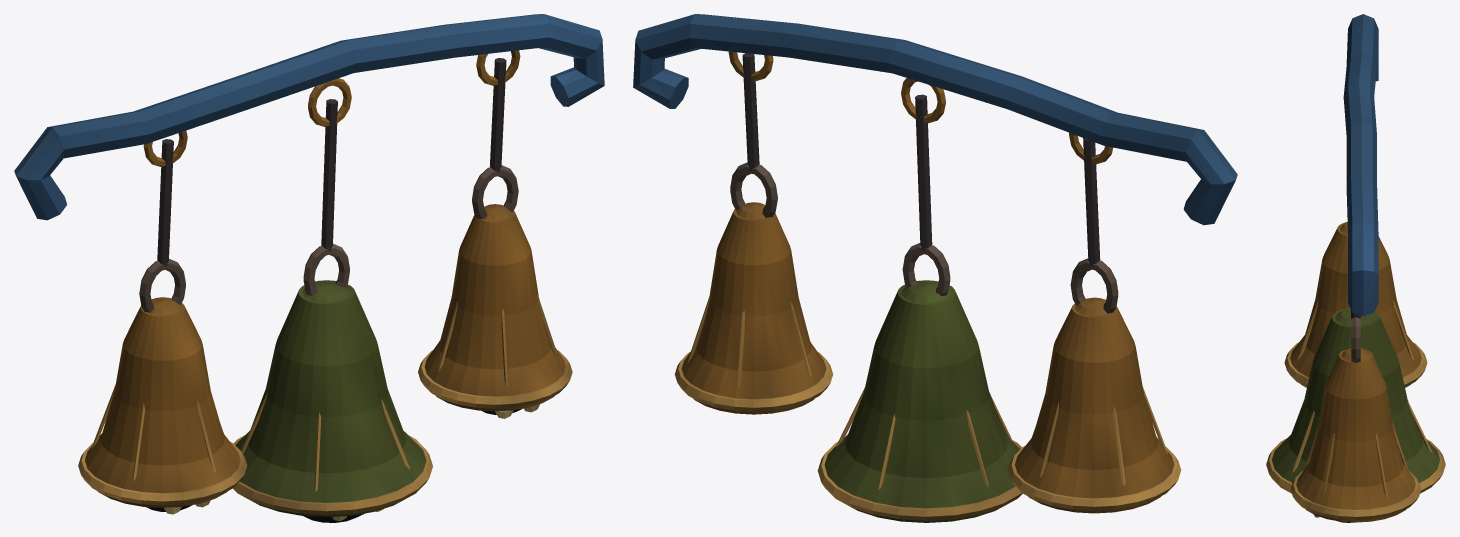
Rendered from chime_triplets.fbx.
The picture shows the model from 3 angles, left to right: view 1: azimuth 30°, elevation 25°; view 2: azimuth 150°, elevation 25°; view 3: azimuth 270°, elevation 25°; orthographic projection. The views are drawn at different scales.
Parts seen in each view (by area): view 1: chime_triplets; view 2: chime_triplets; view 3: chime_triplets.
Boxes of the visible parts, bbox=[...] form: chime_triplets: bbox=[14, 14, 604, 522]; chime_triplets: bbox=[633, 14, 1237, 522]; chime_triplets: bbox=[1266, 14, 1445, 522].
Bounding box in the file's own units: 3.93 × 2.97 × 1.24.
